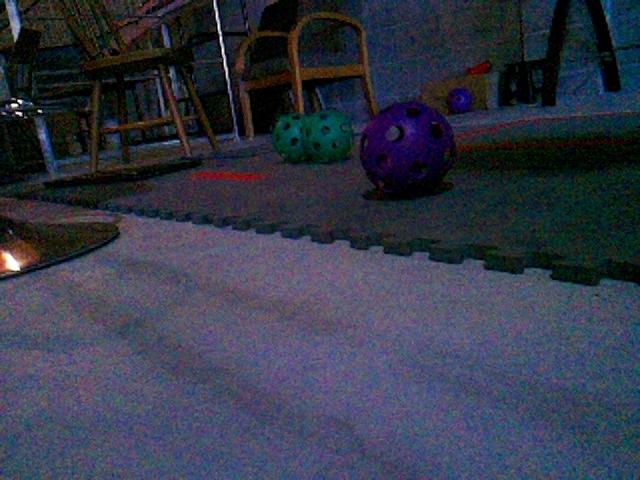Green: (302, 111, 355, 165), (272, 113, 312, 162)
Purple: (359, 102, 457, 196), (445, 87, 474, 114)
